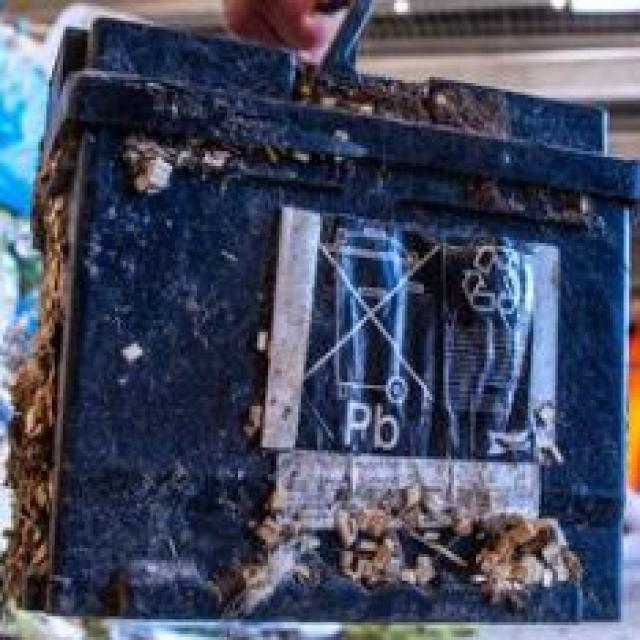electronic: (37, 15, 640, 634)
